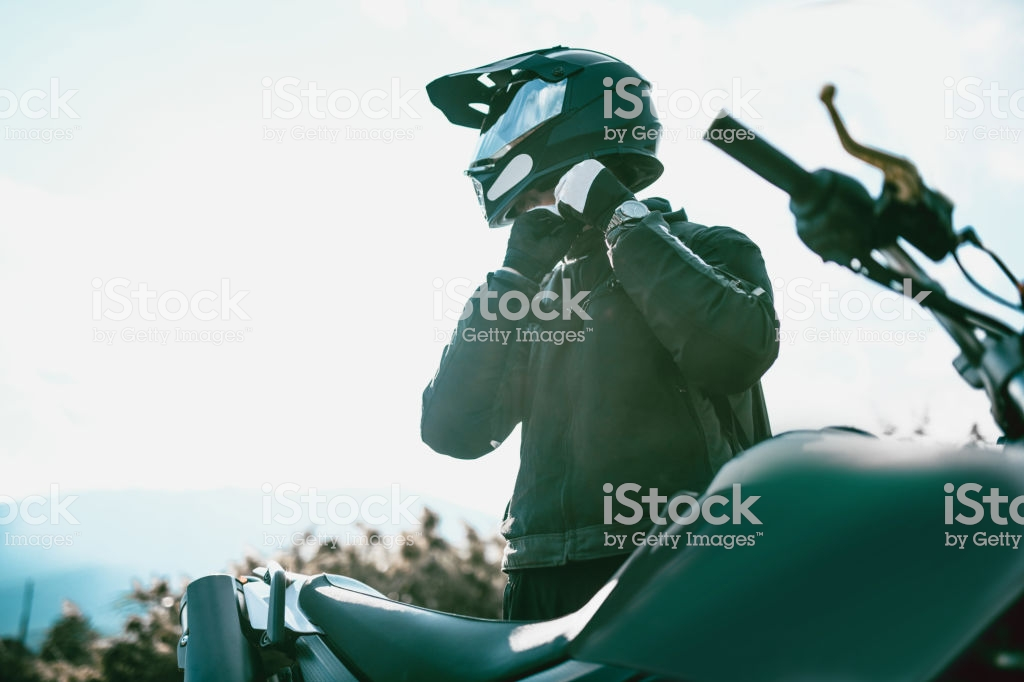helmet: (431, 44, 676, 187)
